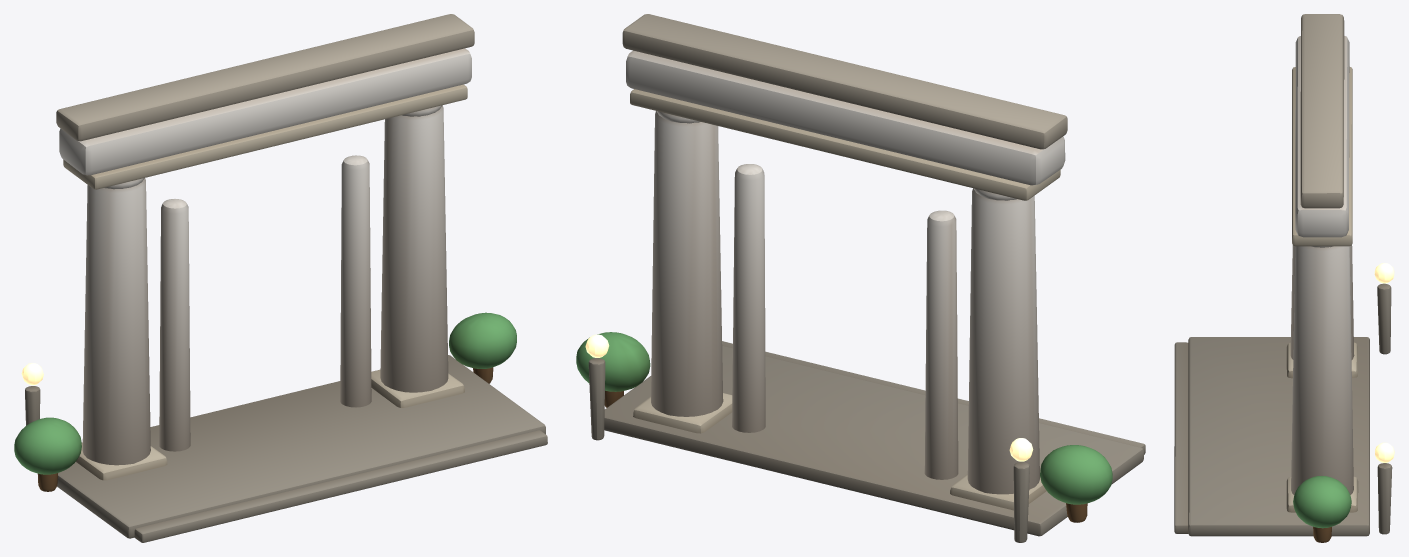
3 renders of one model, left to right at view 1: azimuth 30°, elevation 25°; view 2: azimuth 150°, elevation 25°; view 3: azimuth 270°, elevation 25°, orthographic. The views are drawn at different scales.
Visible parts, largest first — view 1: gate_826b921b; view 2: gate_826b921b; view 3: gate_826b921b.
Part boxes in pixels (x1,y1,x2,y2): gate_826b921b: [14, 14, 547, 542]; gate_826b921b: [576, 14, 1145, 542]; gate_826b921b: [1174, 14, 1394, 542].
Size of the model in its own units: 6.13 by 4.35 by 2.55.
